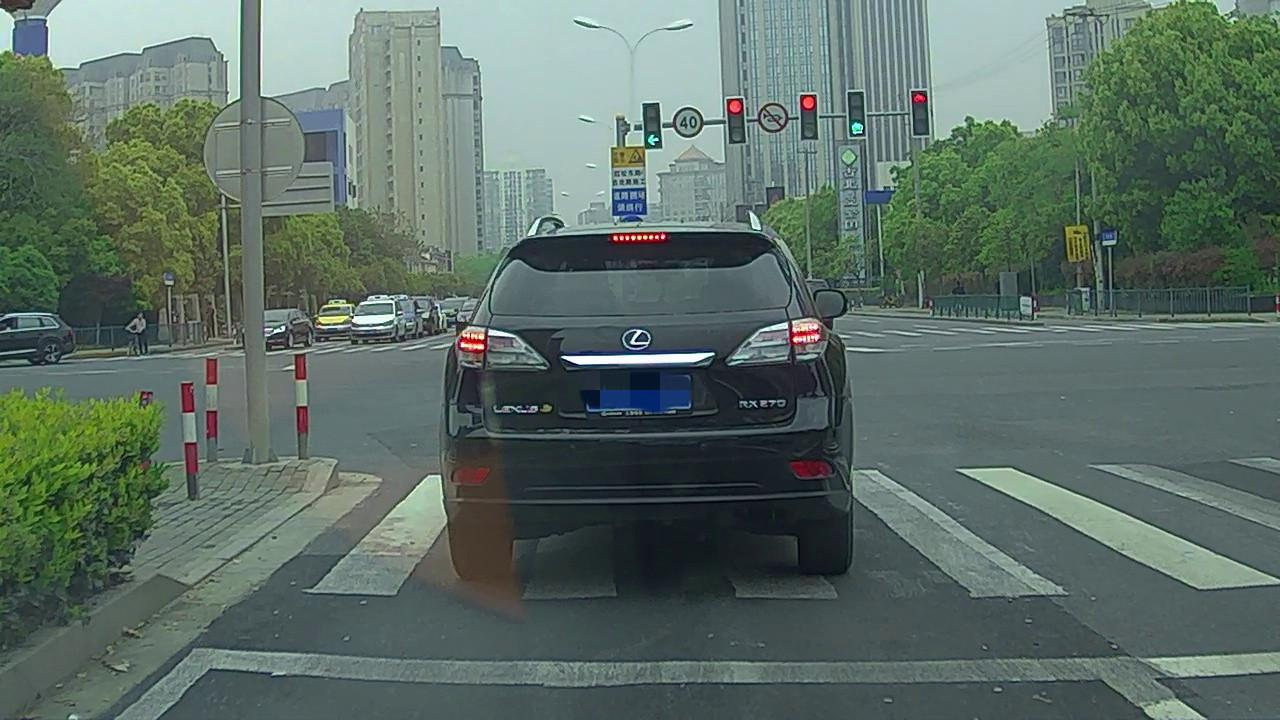traffic_light: (642, 102, 662, 150), (725, 98, 745, 144), (848, 92, 865, 138), (802, 95, 816, 141)
